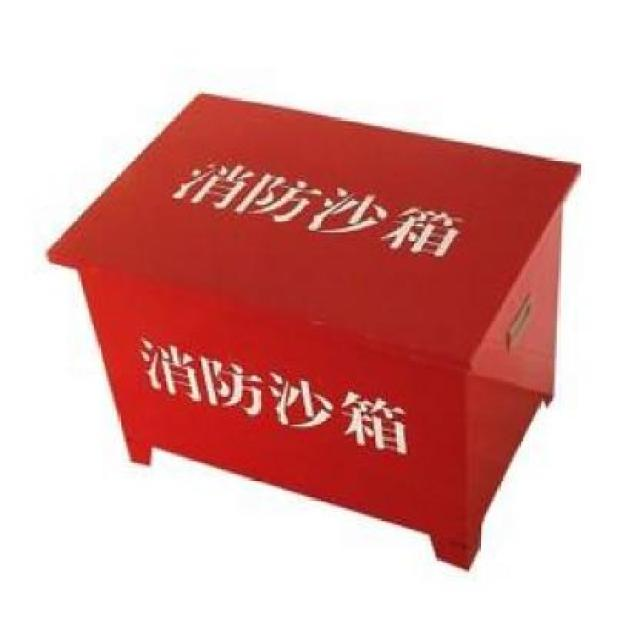firehydrant: (40, 85, 588, 579)
